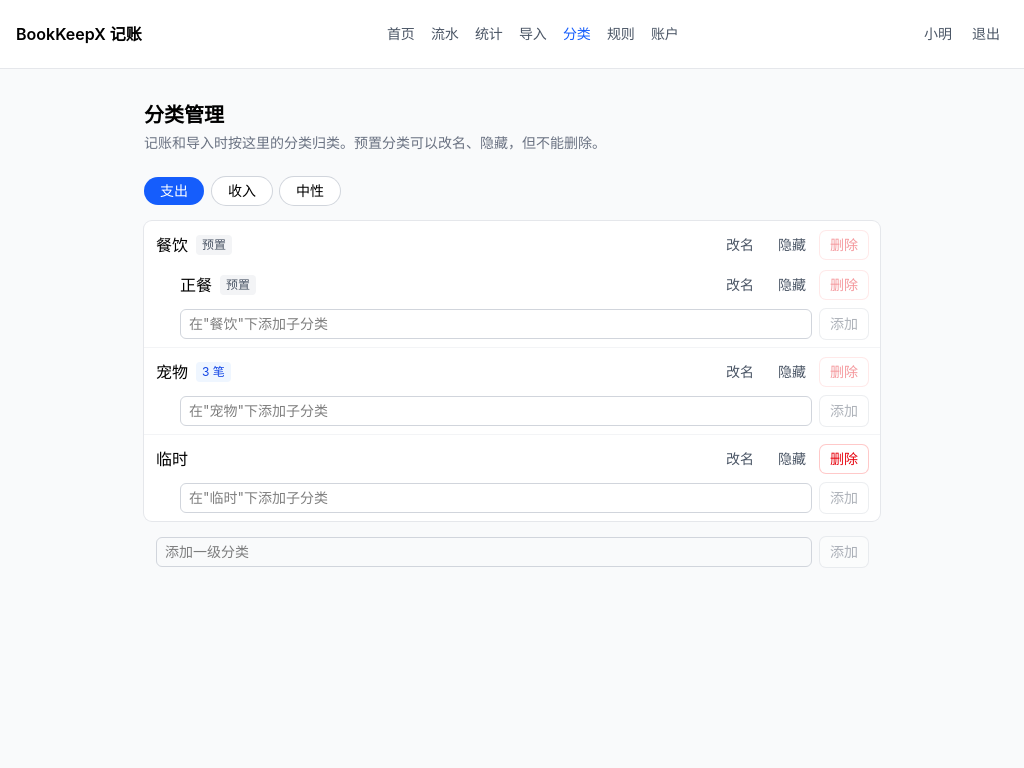
Test: 分类管理页 › 正向：切换到中性页签，显示说明与中性分类
Click the tab "中性".
click(310, 191)  # box [280,177,340,205]
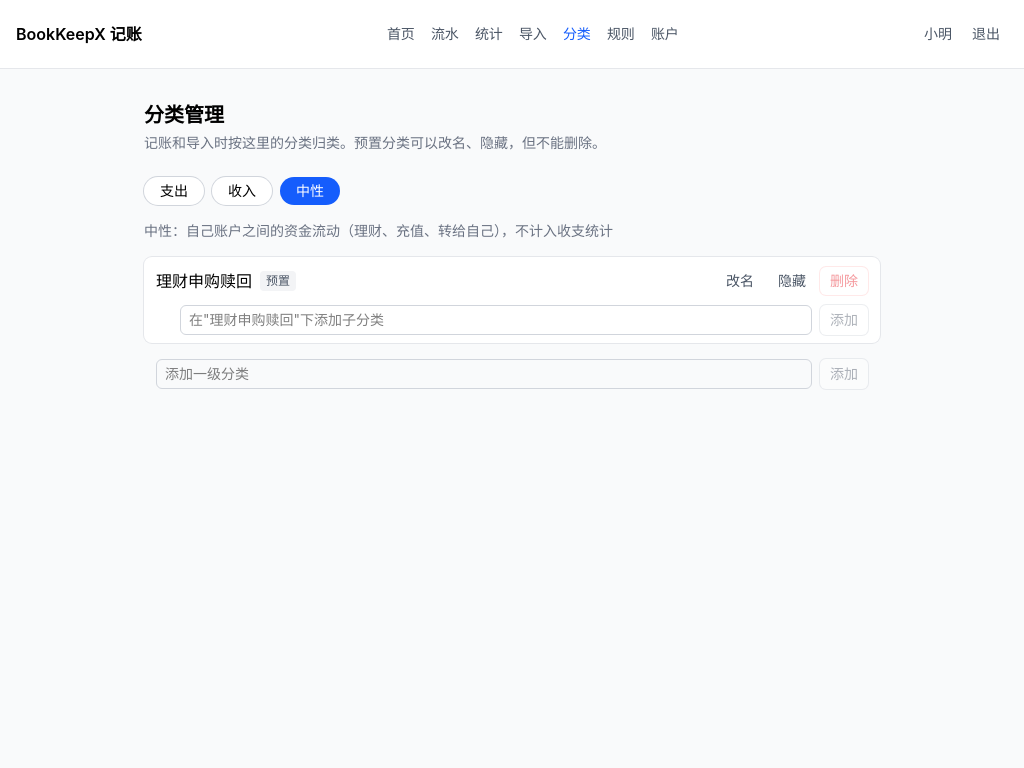
Check: the element with test id "category-理财申购赎回" is shown, box [144,261,880,301]
Check: the text "中性：自己账户之间的资金流动（理财、充值、转给自己），不计入收支统计" is shown, box [144,222,613,239]
